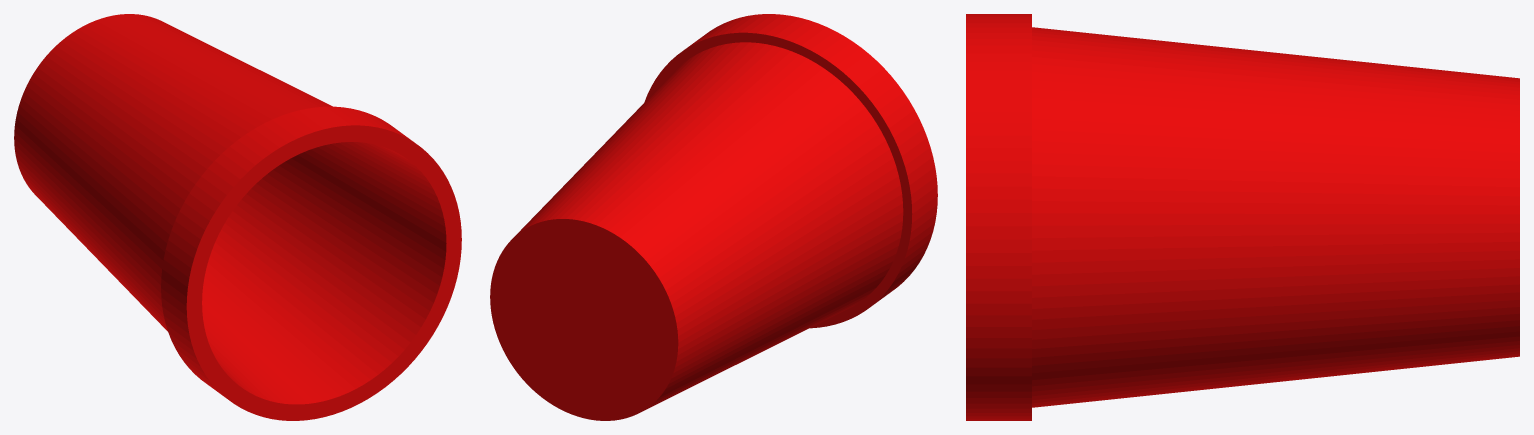
Rendered from cup_red.obj.
3 views of the same model, side by side, from view 1: azimuth 30°, elevation 25°; view 2: azimuth 150°, elevation 25°; view 3: azimuth 270°, elevation 25° (orthographic). The views are drawn at different scales.
Visible parts, largest first — view 1: cup_red; view 2: cup_red; view 3: cup_red.
Boxes of the visible parts, x1=… form: cup_red: x1=14, y1=14, x2=461, y2=420; cup_red: x1=490, y1=14, x2=937, y2=420; cup_red: x1=966, y1=14, x2=1519, y2=420.
Size of the model in its own units: 0.068 by 0.068 by 0.0925.
